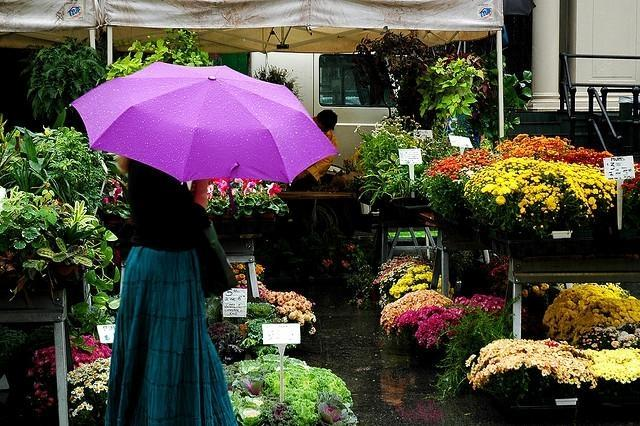truck: (206, 50, 421, 192)
